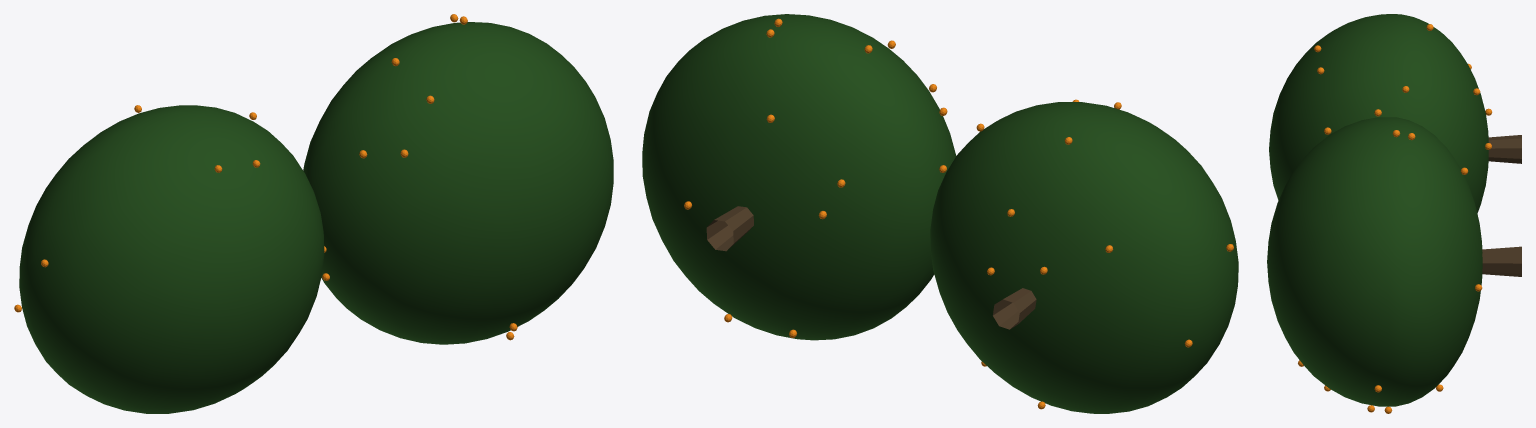
Rendered from citrus_plain2_d_fruit.obj.
3 views of the same model, side by side, from view 1: azimuth 30°, elevation 25°; view 2: azimuth 150°, elevation 25°; view 3: azimuth 270°, elevation 25° (orthographic). The views are drawn at different scales.
Parts seen in each view (by area): view 1: canopy, fruit; view 2: canopy, trunk, fruit; view 3: canopy, trunk, fruit.
Part boxes in pixels (x1,y1,x2,y2): canopy: (19,22,613,413); fruit: (14,14,517,340); canopy: (642,14,1238,413); trunk: (706,206,1036,329); fruit: (684,18,1233,409); canopy: (1267,14,1488,406); trunk: (1482,135,1521,276); fruit: (1298,24,1492,413).
Bounding box in the file's own units: 6 × 3.14 × 2.69.
